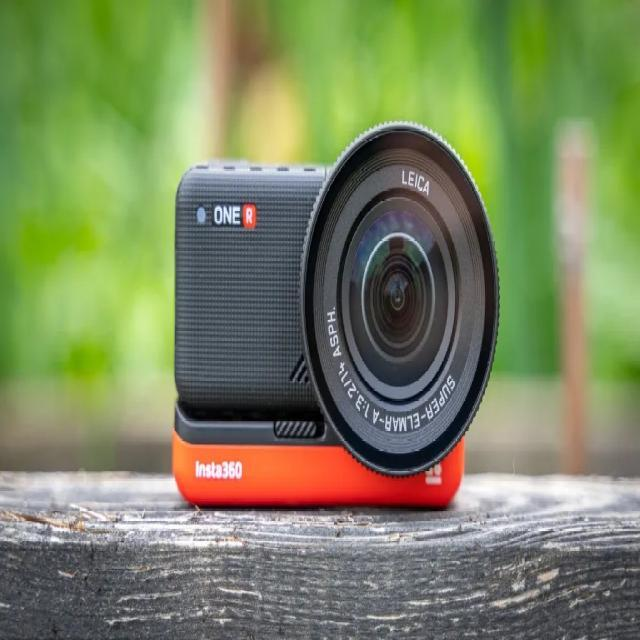hidden camera: (330, 180, 468, 429)
